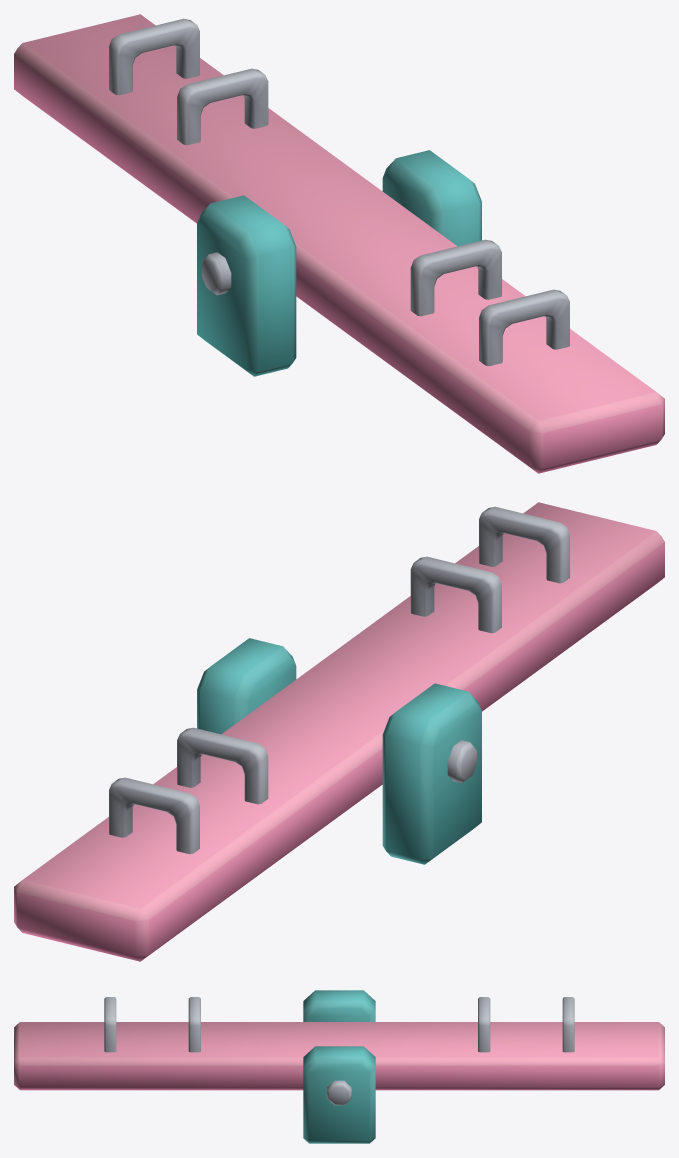
Rendered from seesaw_large.glb.
The picture shows the model from 3 angles, top to bottom: view 1: azimuth 30°, elevation 25°; view 2: azimuth 150°, elevation 25°; view 3: azimuth 270°, elevation 25°; orthographic projection. The views are drawn at different scales.
Visible parts, largest first — view 1: seesaw_large_seat, seesaw_large; view 2: seesaw_large_seat, seesaw_large; view 3: seesaw_large_seat, seesaw_large.
Boxes of the visible parts, x1,y1,x2,y2 form: seesaw_large_seat: (14,14,664,473); seesaw_large: (197,150,481,376); seesaw_large_seat: (14,502,664,961); seesaw_large: (197,638,481,864); seesaw_large_seat: (14,997,664,1090); seesaw_large: (303,990,375,1143).
Size of the model in its own units: 1.54 by 0.95 by 5.4.
1 material, 1 textured.
